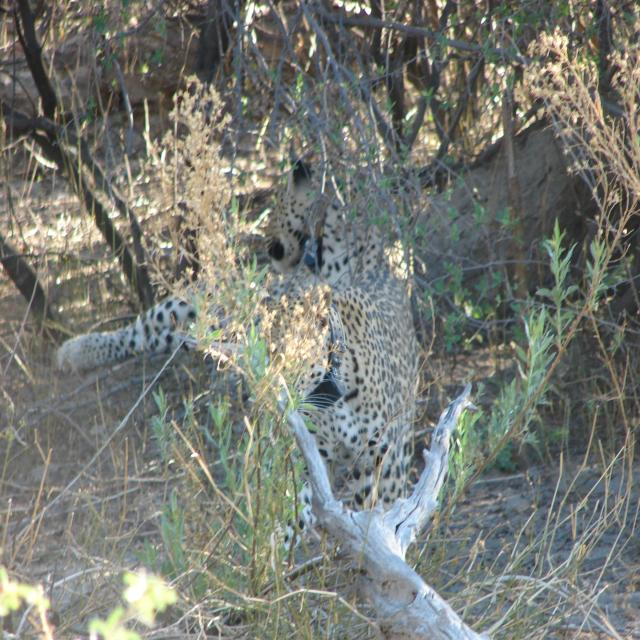Leopard: (253, 165, 450, 582)
